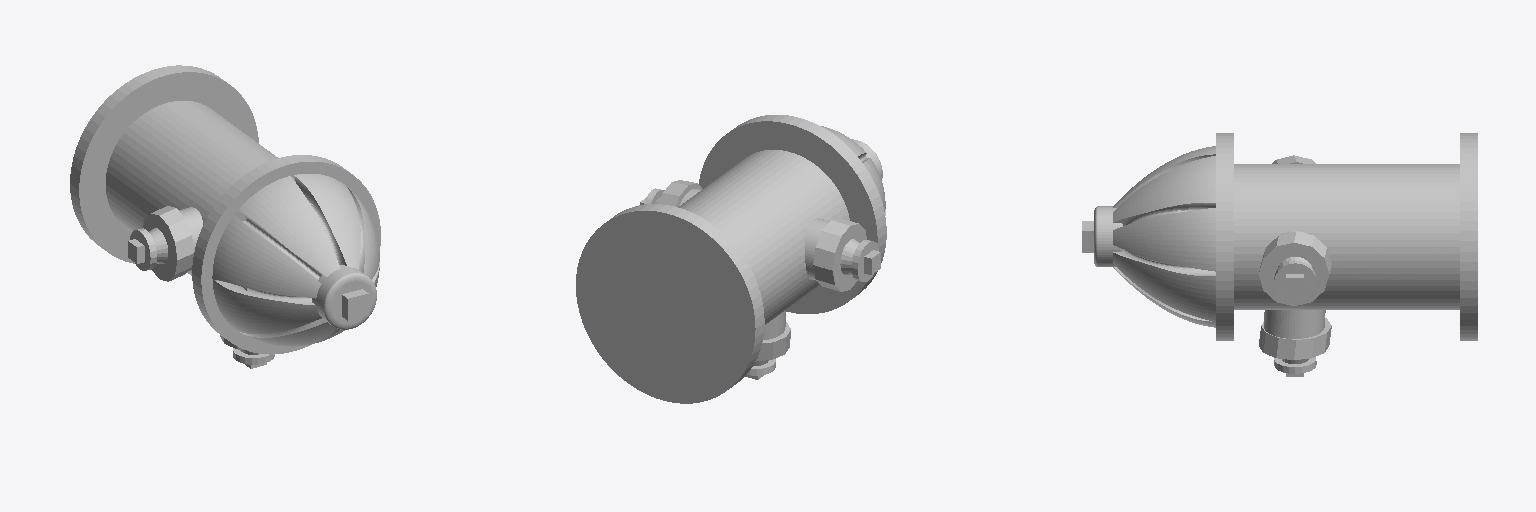
File: tinker_3.obj
3 renders of one model, left to right at view 1: azimuth 30°, elevation 25°; view 2: azimuth 150°, elevation 25°; view 3: azimuth 270°, elevation 25°, orthographic.
Parts seen in each view (by area): view 1: obj_0; view 2: obj_0; view 3: obj_0.
Boxes of the visible parts, <box> form: obj_0: <box>70,65,380,368</box>; obj_0: <box>576,115,886,403</box>; obj_0: <box>1082,133,1477,376</box>.
Bounding box in the file's own units: 15.51 × 14.67 × 23.